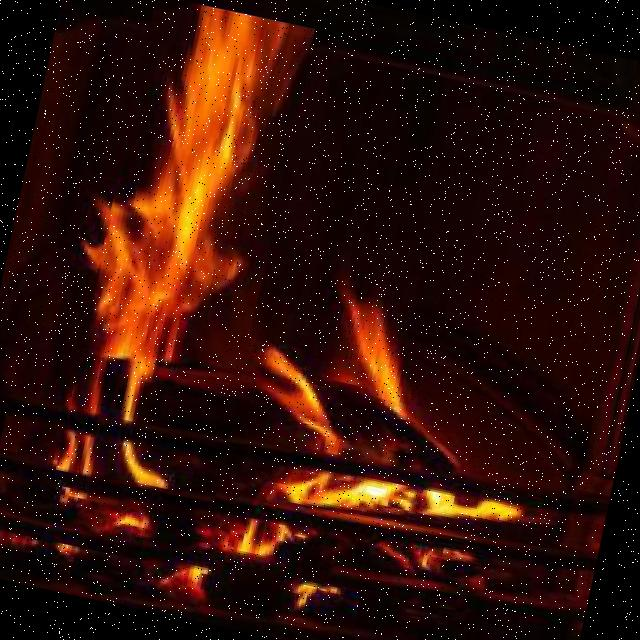fire: (55, 0, 314, 503)
